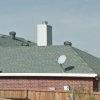Chimney: (32, 16, 55, 52)
